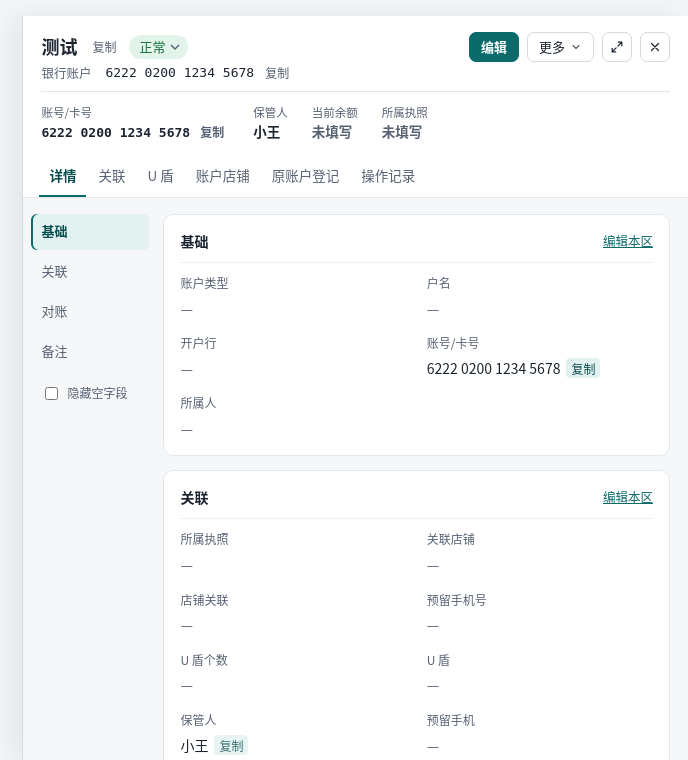
Test: 卡号、手机号等一键复制 + 详情关键信息 › 银行账户：详情顶部关键信息里有卡号，点复制写入剪贴板并变成“已复制”
Expected: the element named "关键信息" shows "6222 0200 1234 5678", [41,125,190,140]
Expected: the element named "关键信息" shows "小王", [253,121,280,141]
Click the button with aria-label "复制账号/卡号" at [212, 132], box [195,122,229,142]
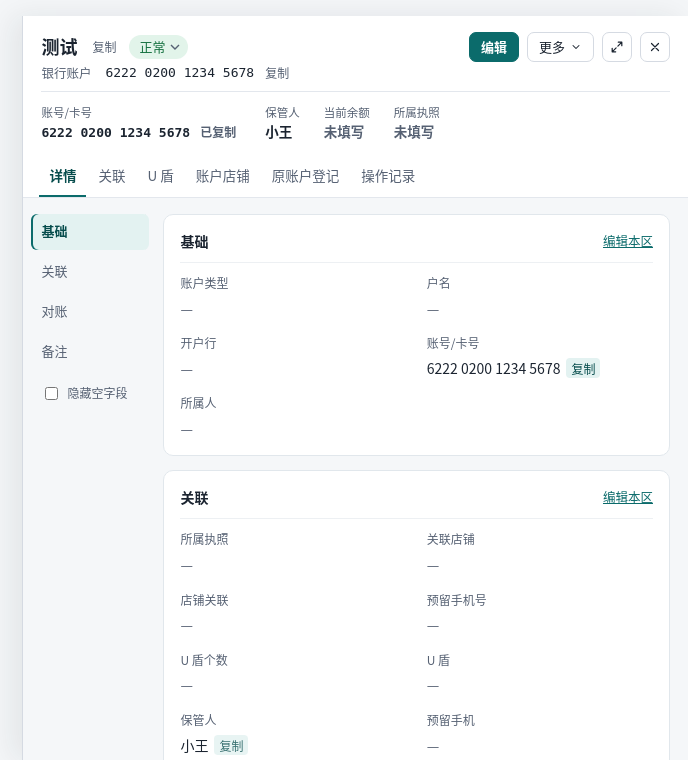
Result: the button "已复制" is shown at [195,122,241,142]
